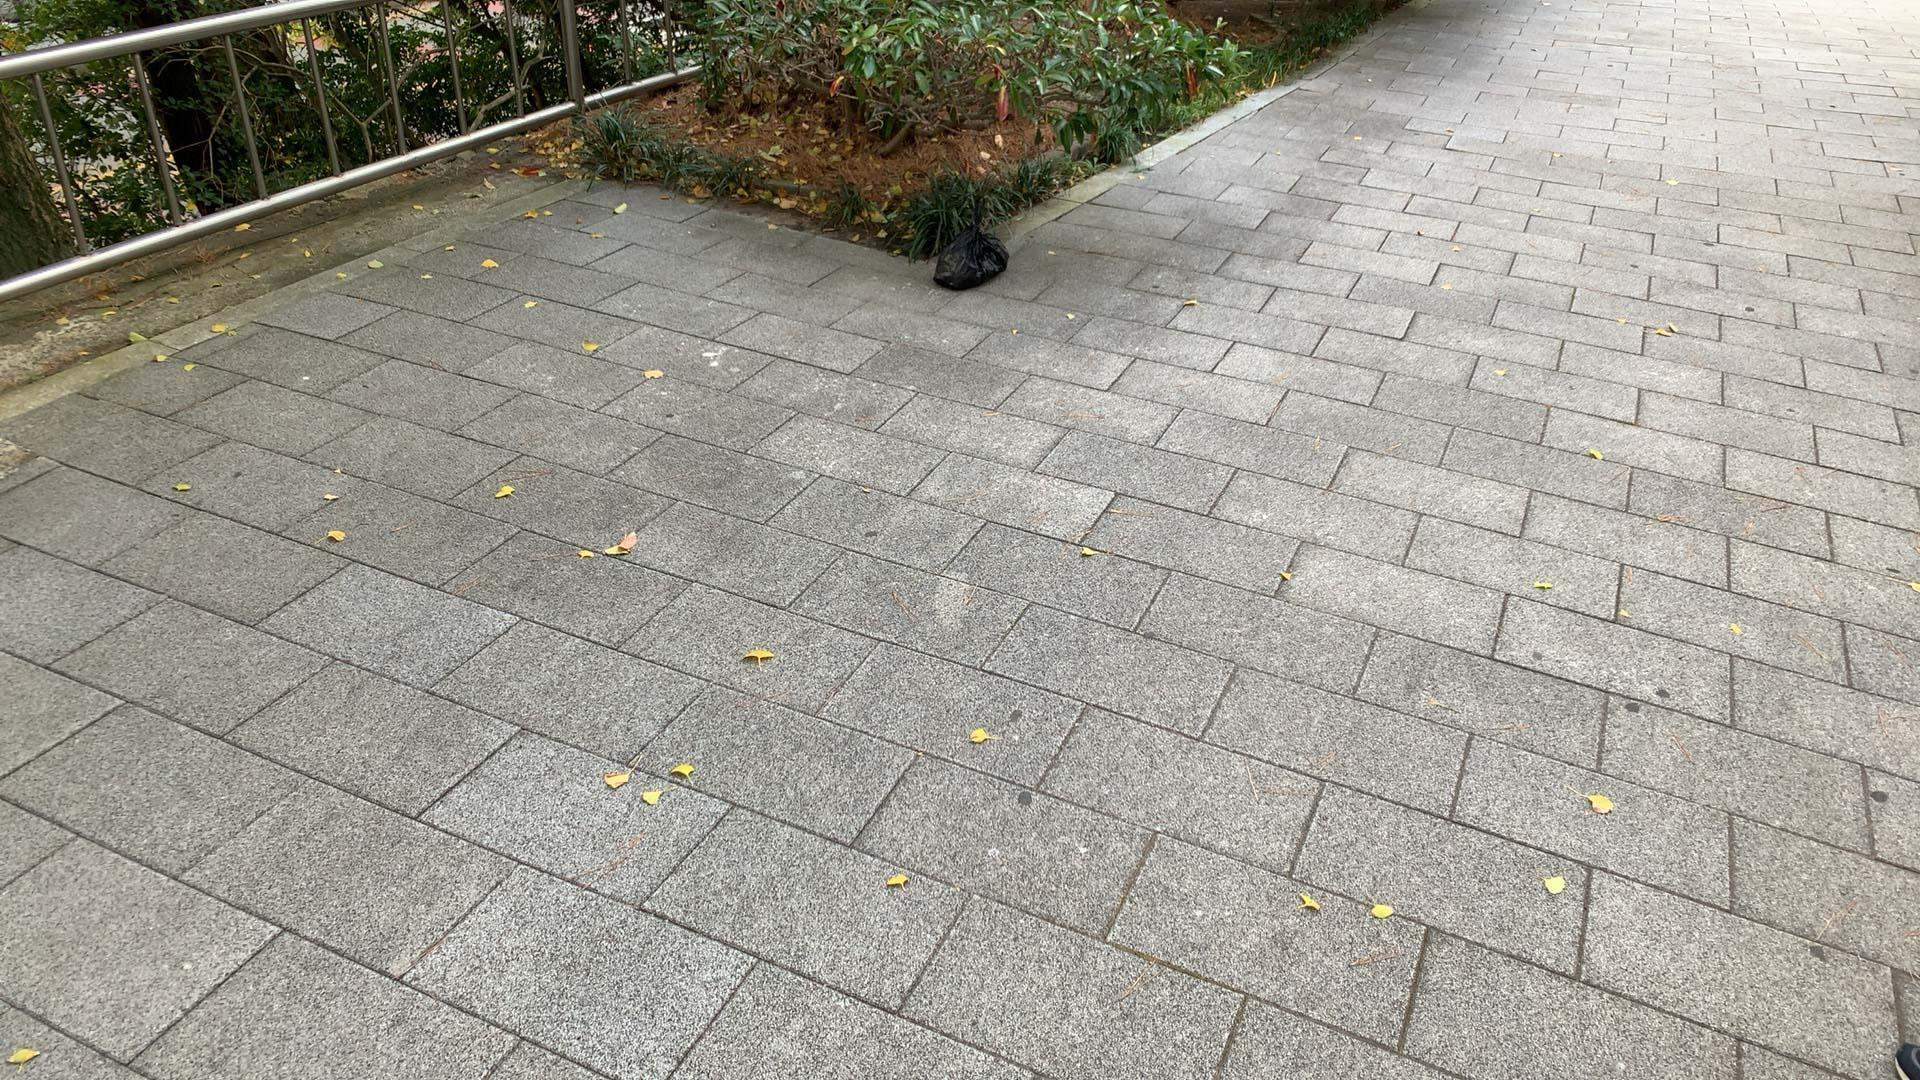black_bag: (923, 191, 1011, 293)
